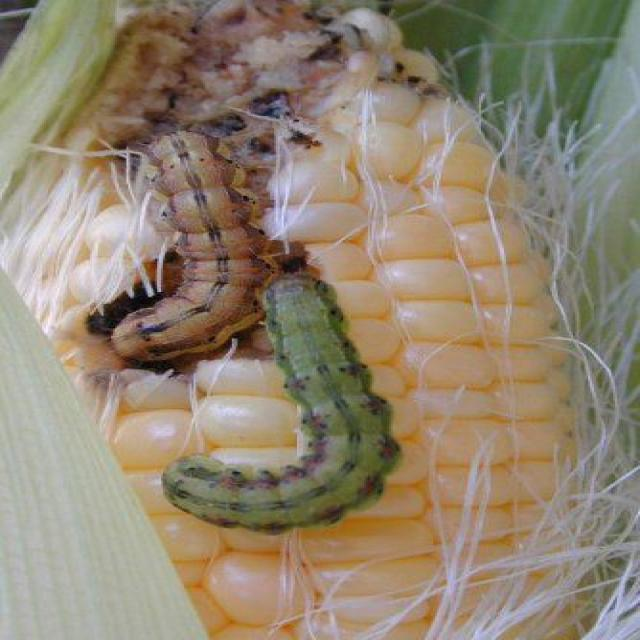worm: (162, 261, 419, 542), (102, 105, 261, 380)
